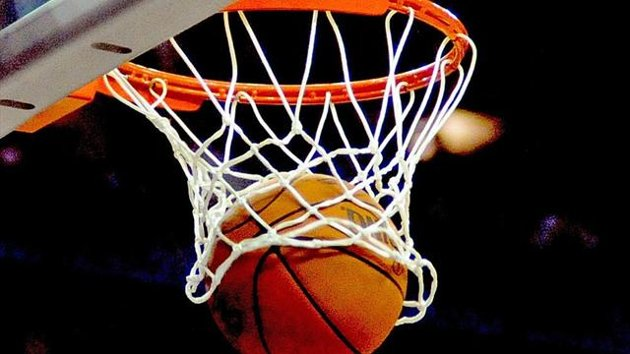Basketball: (193, 172, 406, 354)
